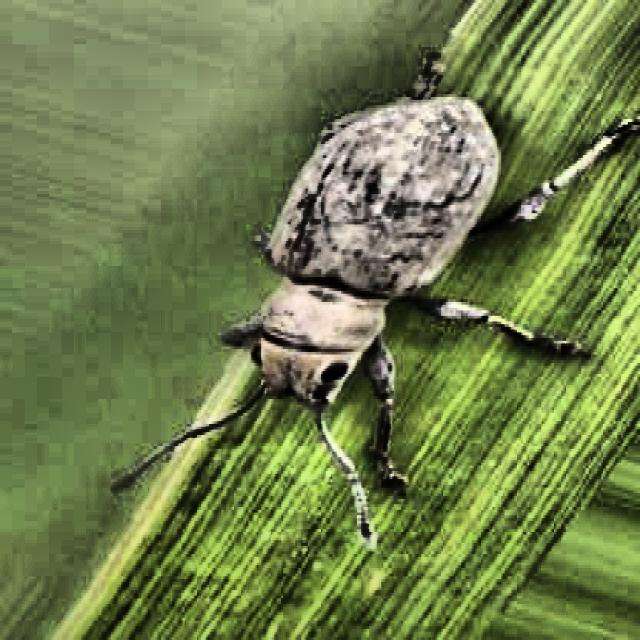Stink bug: (164, 51, 550, 525)
